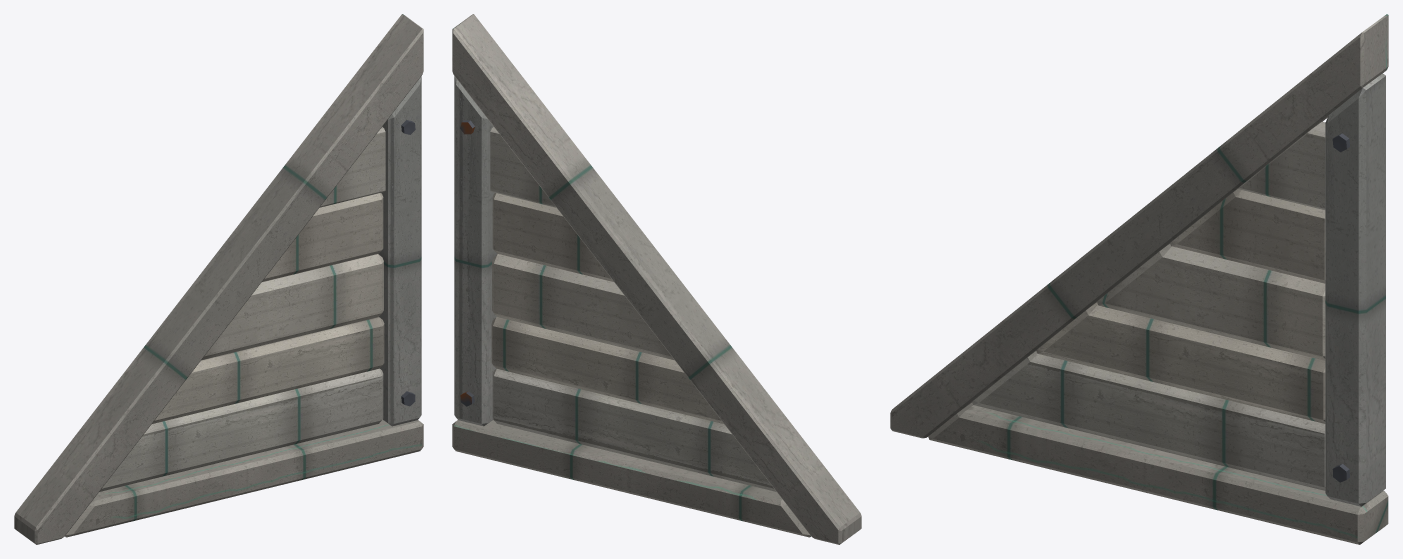
Rendered from ucgen_duvar.glb.
3 views of the same model, side by side, from view 1: azimuth 30°, elevation 25°; view 2: azimuth 150°, elevation 25°; view 3: azimuth 330°, elevation 25° (orthographic). The views are drawn at different scales.
Parts seen in each view (by area): view 1: ucgen_duvar; view 2: ucgen_duvar; view 3: ucgen_duvar.
Boxes of the visible parts, x1=… form: ucgen_duvar: x1=14, y1=14, x2=423, y2=544; ucgen_duvar: x1=452, y1=14, x2=861, y2=544; ucgen_duvar: x1=890, y1=14, x2=1388, y2=544.
Bounding box in the file's own units: 3 × 3.11 × 0.35.
Materials: 1 (1 with a texture image).
